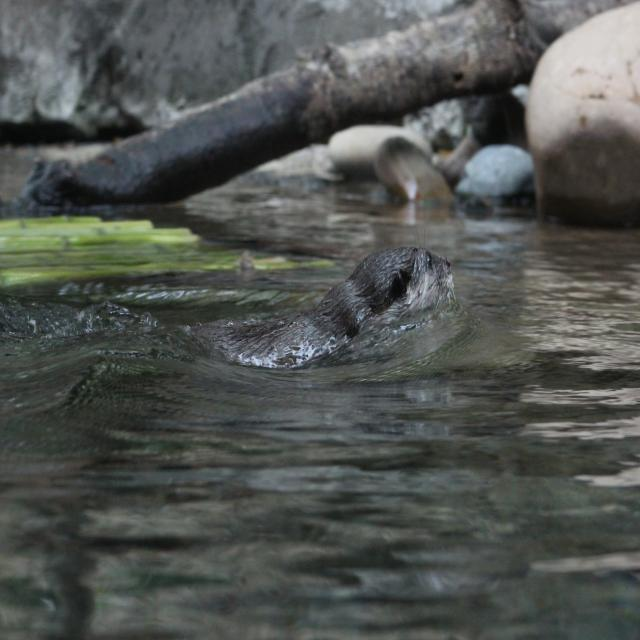otter: (233, 248, 453, 365)
